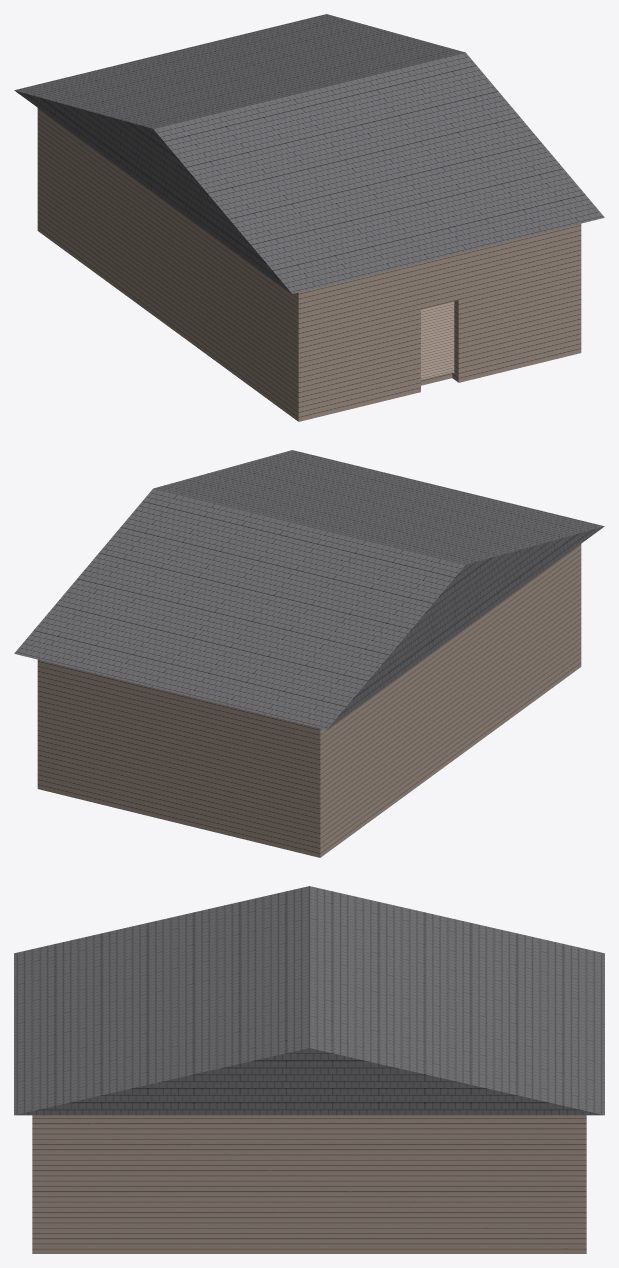
File: farm_equipment_shed.glb
3 renders of one model, top to bottom at view 1: azimuth 30°, elevation 25°; view 2: azimuth 150°, elevation 25°; view 3: azimuth 270°, elevation 25°, orthographic. The views are drawn at different scales.
Visible parts, largest first — view 1: farm_equipment_shed-col; view 2: farm_equipment_shed-col; view 3: farm_equipment_shed-col.
Part boxes in pixels (left/top/right/bottom): farm_equipment_shed-col: left=14, top=14, right=604, bottom=421; farm_equipment_shed-col: left=14, top=450, right=604, bottom=857; farm_equipment_shed-col: left=14, top=886, right=604, bottom=1253.
Bounding box in the file's own units: 8.3 × 5.11 × 12.8.
Materials: 2 (2 with a texture image).
